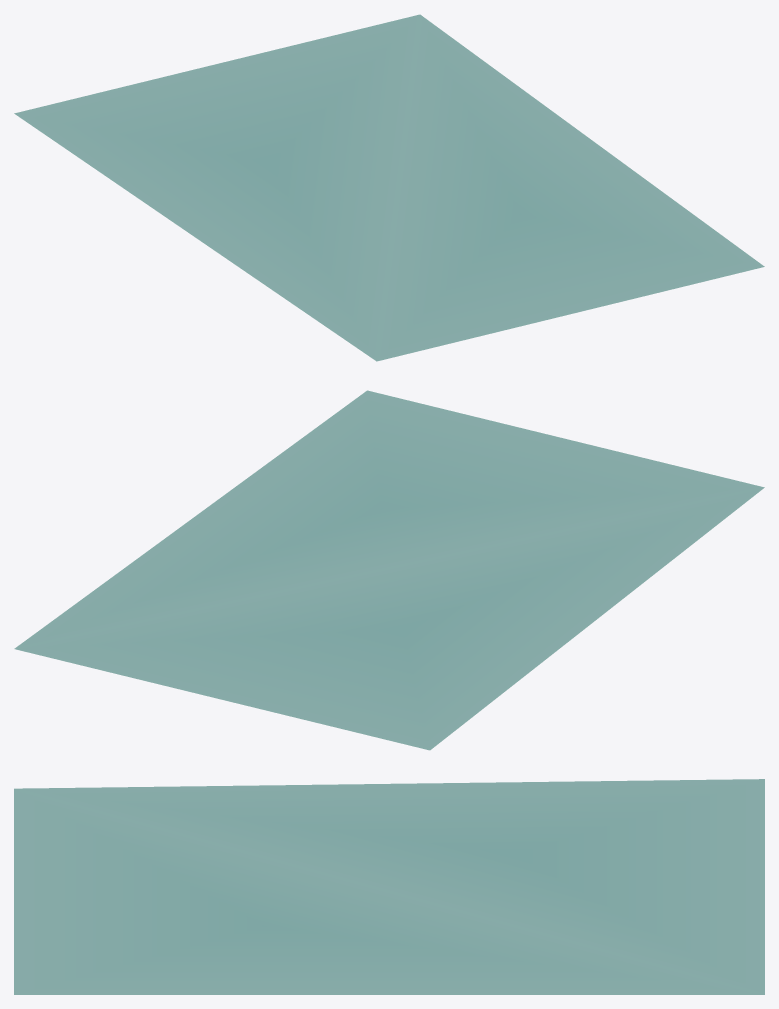
File: water-19-4.glb
The picture shows the model from 3 angles, top to bottom: view 1: azimuth 30°, elevation 25°; view 2: azimuth 150°, elevation 25°; view 3: azimuth 270°, elevation 25°; orthographic projection. The views are drawn at different scales.
Bounding box in the file's own units: 10.88 × 0 × 16.
